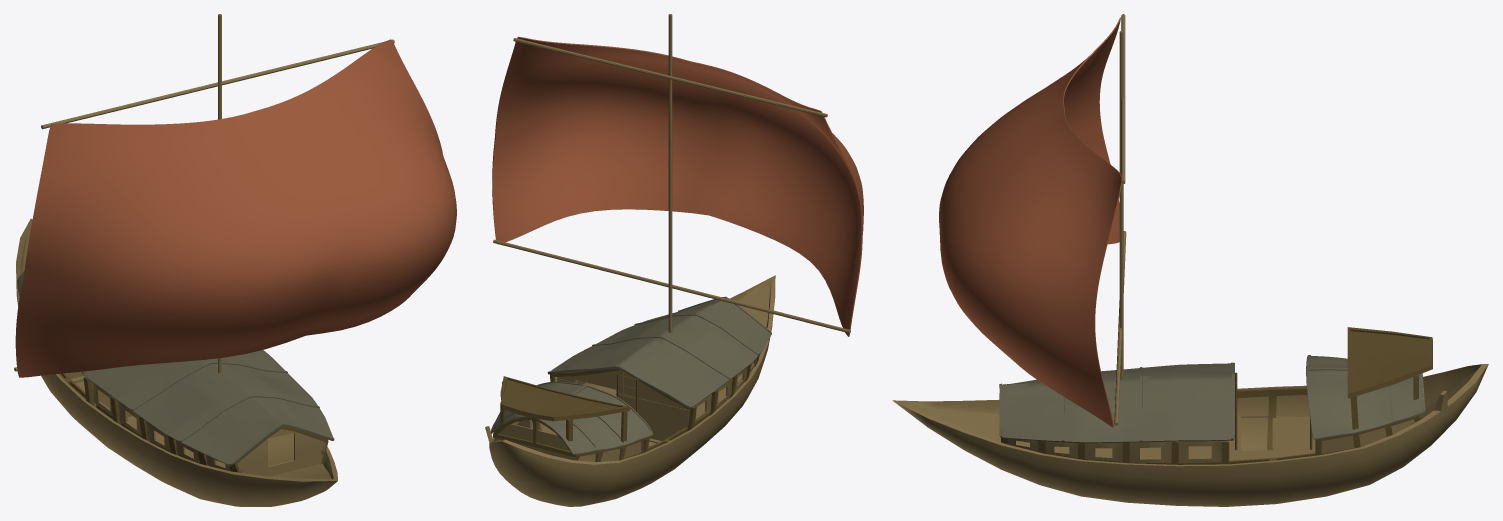
The model's file is SHIP_V2.fbx.
3 views of the same model, side by side, from view 1: azimuth 30°, elevation 25°; view 2: azimuth 150°, elevation 25°; view 3: azimuth 270°, elevation 25° (orthographic). The views are drawn at different scales.
Visible parts, largest first — view 1: SAIL, BODY_SHIP; view 2: SAIL, BODY_SHIP; view 3: BODY_SHIP, SAIL.
Boxes of the visible parts, box(x1,y1,x2,y2) form: SAIL: box(14, 14, 456, 377); BODY_SHIP: box(16, 218, 337, 506); SAIL: box(492, 14, 863, 336); BODY_SHIP: box(485, 275, 775, 506); BODY_SHIP: box(892, 327, 1488, 506); SAIL: box(939, 14, 1126, 427).
Size of the model in its own units: 10.55 by 11.46 by 13.35.
